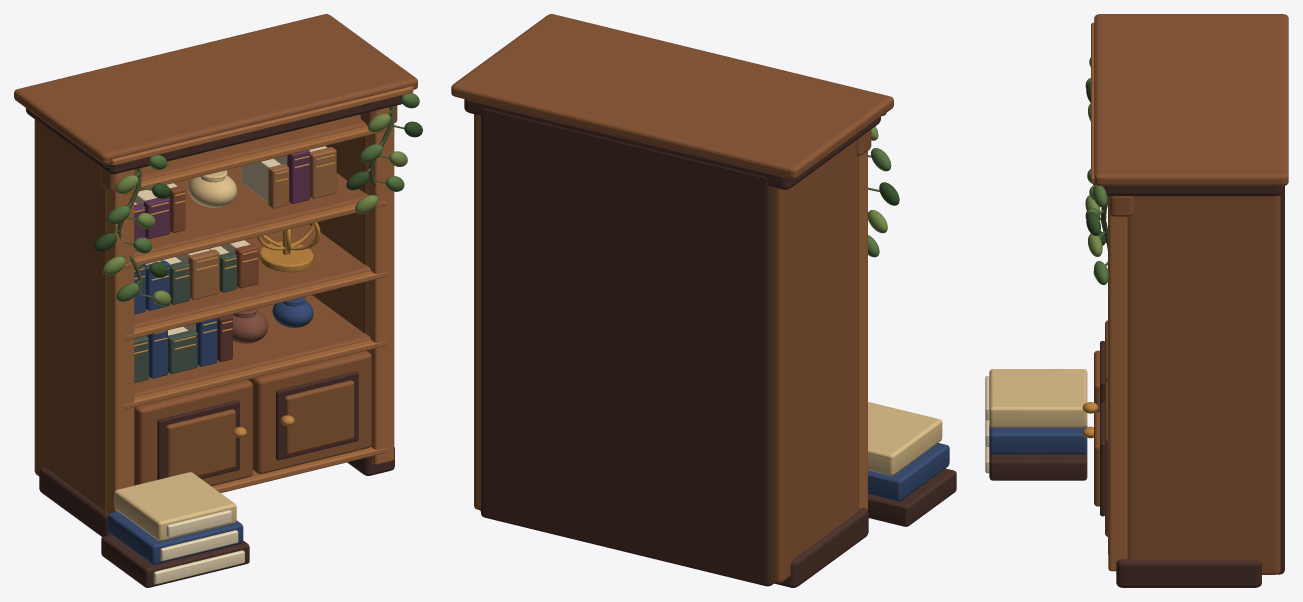
File: living-bookcase.glb
The picture shows the model from 3 angles, left to right: view 1: azimuth 30°, elevation 25°; view 2: azimuth 150°, elevation 25°; view 3: azimuth 270°, elevation 25°; orthographic projection. The views are drawn at different scales.
Parts seen in each view (by area): view 1: living_bookcase_pivot_Mesh; view 2: living_bookcase_pivot_Mesh; view 3: living_bookcase_pivot_Mesh.
Boxes of the visible parts, x1,y1,x2,y2 form: living_bookcase_pivot_Mesh: [14, 14, 422, 587]; living_bookcase_pivot_Mesh: [451, 14, 956, 587]; living_bookcase_pivot_Mesh: [985, 14, 1288, 587].
Size of the model in its own units: 1.99 by 2.32 by 1.52.
